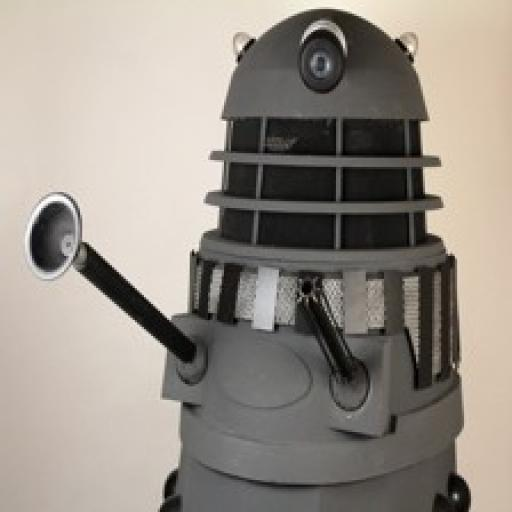dalek: (19, 5, 475, 512)
